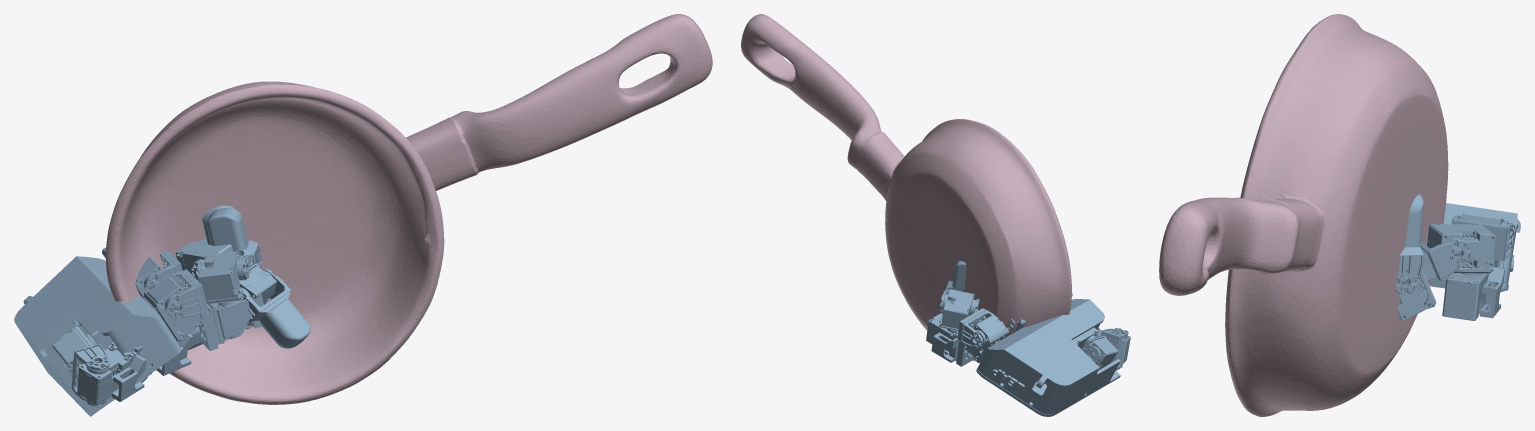
3 views of the same model, side by side, from view 1: azimuth 30°, elevation 25°; view 2: azimuth 150°, elevation 25°; view 3: azimuth 270°, elevation 25° (orthographic). The views are drawn at different scales.
Visible parts, largest first — view 1: obj_mesh_grasp_25.obj, world; view 2: obj_mesh_grasp_25.obj, world; view 3: obj_mesh_grasp_25.obj, world.
Part boxes in pixels (bbox=[...]): obj_mesh_grasp_25.obj: bbox=[105, 14, 712, 404]; world: bbox=[14, 205, 310, 416]; obj_mesh_grasp_25.obj: bbox=[741, 14, 1071, 361]; world: bbox=[926, 260, 1130, 416]; obj_mesh_grasp_25.obj: bbox=[1159, 14, 1448, 416]; world: bbox=[1395, 194, 1520, 320].
Bounding box in the file's own units: 0.464 × 0.2575 × 0.2132.
